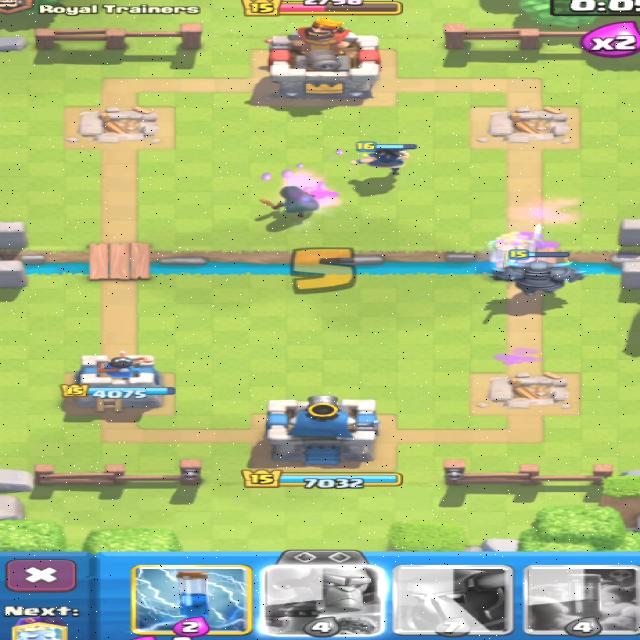Enemy-KingTower-Activated: (269, 18, 381, 99)
Player-Bandit: (260, 187, 317, 217)
Player-ElectroWizard: (354, 141, 416, 171)
Player-KingTower-Activated: (264, 395, 380, 465)
Player-PEKKA: (492, 260, 583, 295)
Player-PrincessTower: (61, 351, 174, 411), (489, 372, 569, 404)
Player-RoyalGhost-Invisible: (492, 226, 558, 268)
